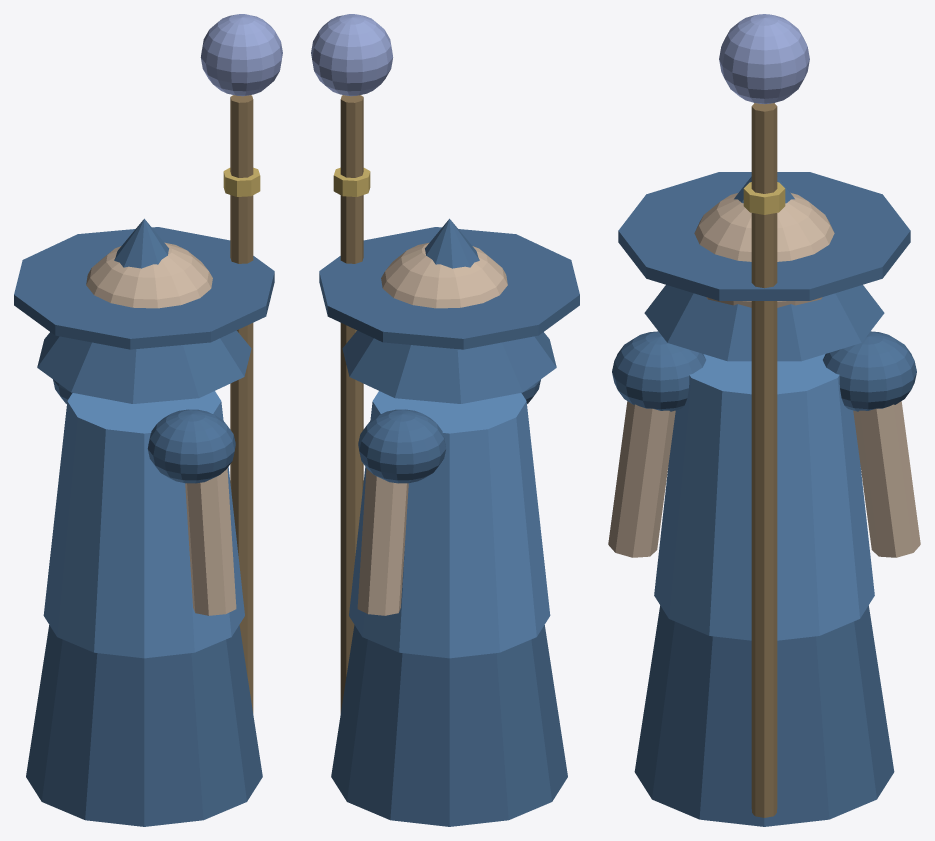
Rendered from hero_aldar_5.glb.
The picture shows the model from 3 angles, left to right: view 1: azimuth 30°, elevation 25°; view 2: azimuth 150°, elevation 25°; view 3: azimuth 270°, elevation 25°; orthographic projection. The views are drawn at different scales.
Visible parts, largest first — view 1: figurka; view 2: figurka; view 3: figurka.
Boxes of the visible parts, box(x1,y1,x2,y2) form: figurka: box(14, 14, 282, 826); figurka: box(311, 14, 579, 826); figurka: box(608, 14, 920, 826).
Bounding box in the file's own units: 0.474 × 1.37 × 0.4814.
